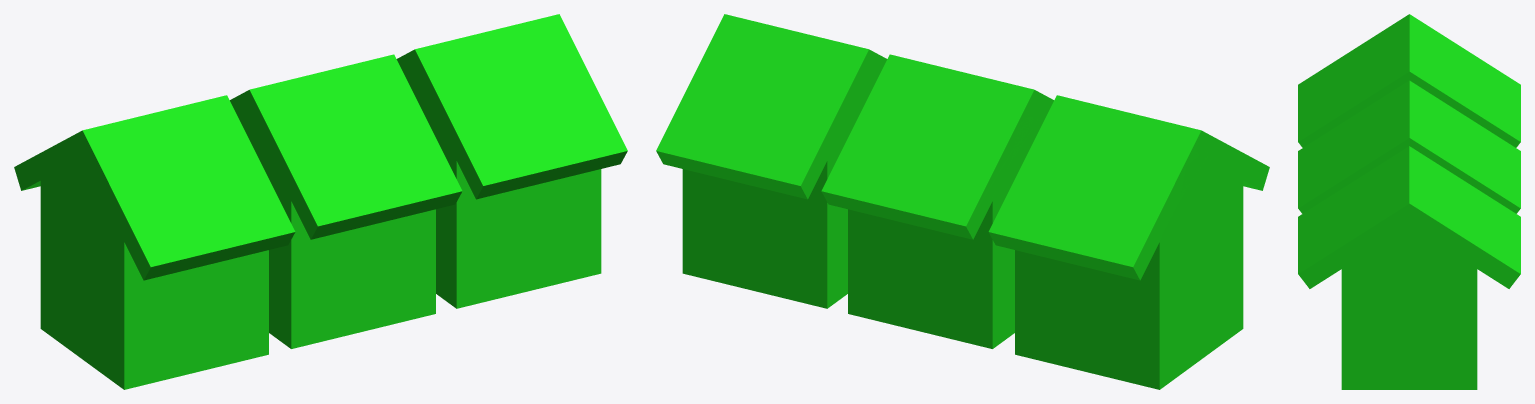
The model's file is maison3.glb.
The picture shows the model from 3 angles, left to right: view 1: azimuth 30°, elevation 25°; view 2: azimuth 150°, elevation 25°; view 3: azimuth 270°, elevation 25°; orthographic projection. The views are drawn at different scales.
Parts seen in each view (by area): view 1: Cube.002; view 2: Cube.002; view 3: Cube.002.
Boxes of the visible parts, x1,y1,x2,y2 form: Cube.002: (14,14,627,389); Cube.002: (656,14,1269,389); Cube.002: (1298,14,1520,389).
Size of the model in its own units: 0.8328 by 0.3821 by 0.4136.
